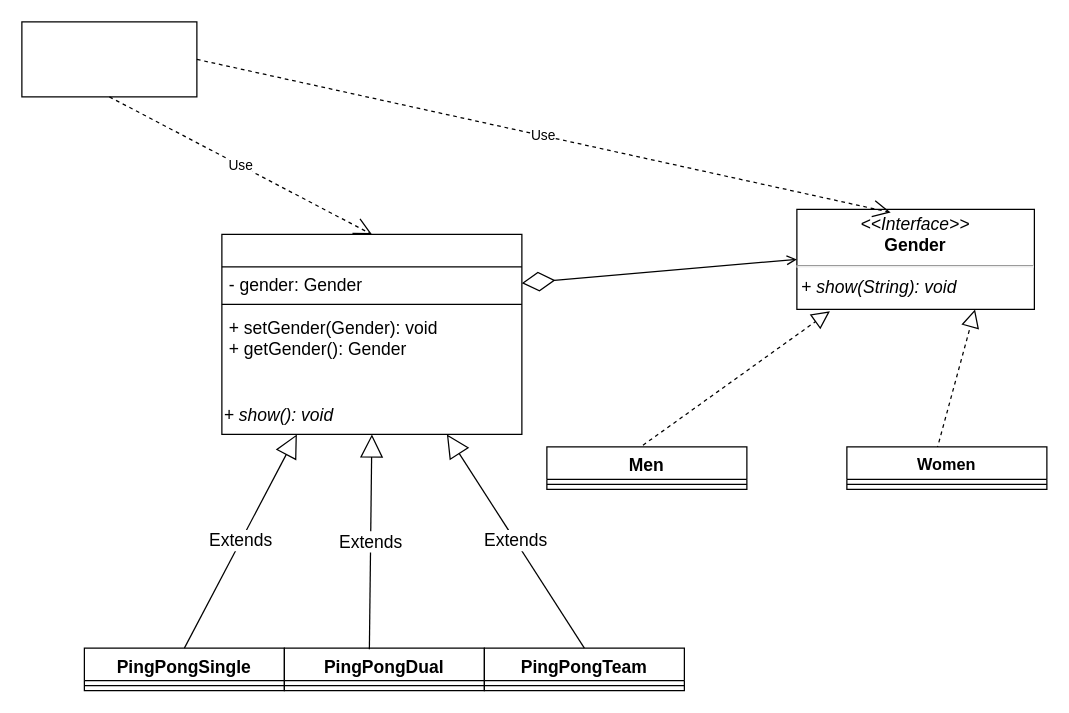
This 1069x713 diagram has some shape labels left out. The shapes that lost their labels are listed below. From the top down, each one's box as (x1, y1, x2, y2) in pixels, then its label:
(21, 21, 197, 97): BridgeTest
(221, 233, 522, 434): PingPong
